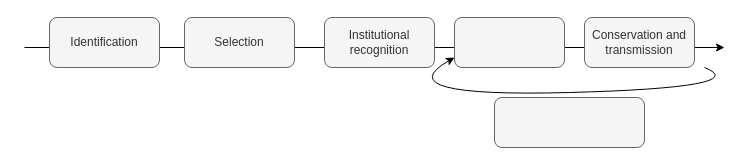
Image size: 750x165. Some labels were removed from this diagram. Here are the shapes that lost their labels. From the top down, the centre of each, then its label:
At pixel 509 42: "Public presentation and access".
At pixel 569 122: "Reinterpretation Perpetuation".
